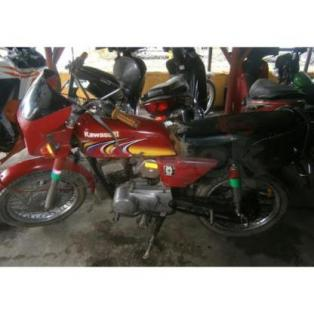Motocicleta: (0, 57, 313, 248)
